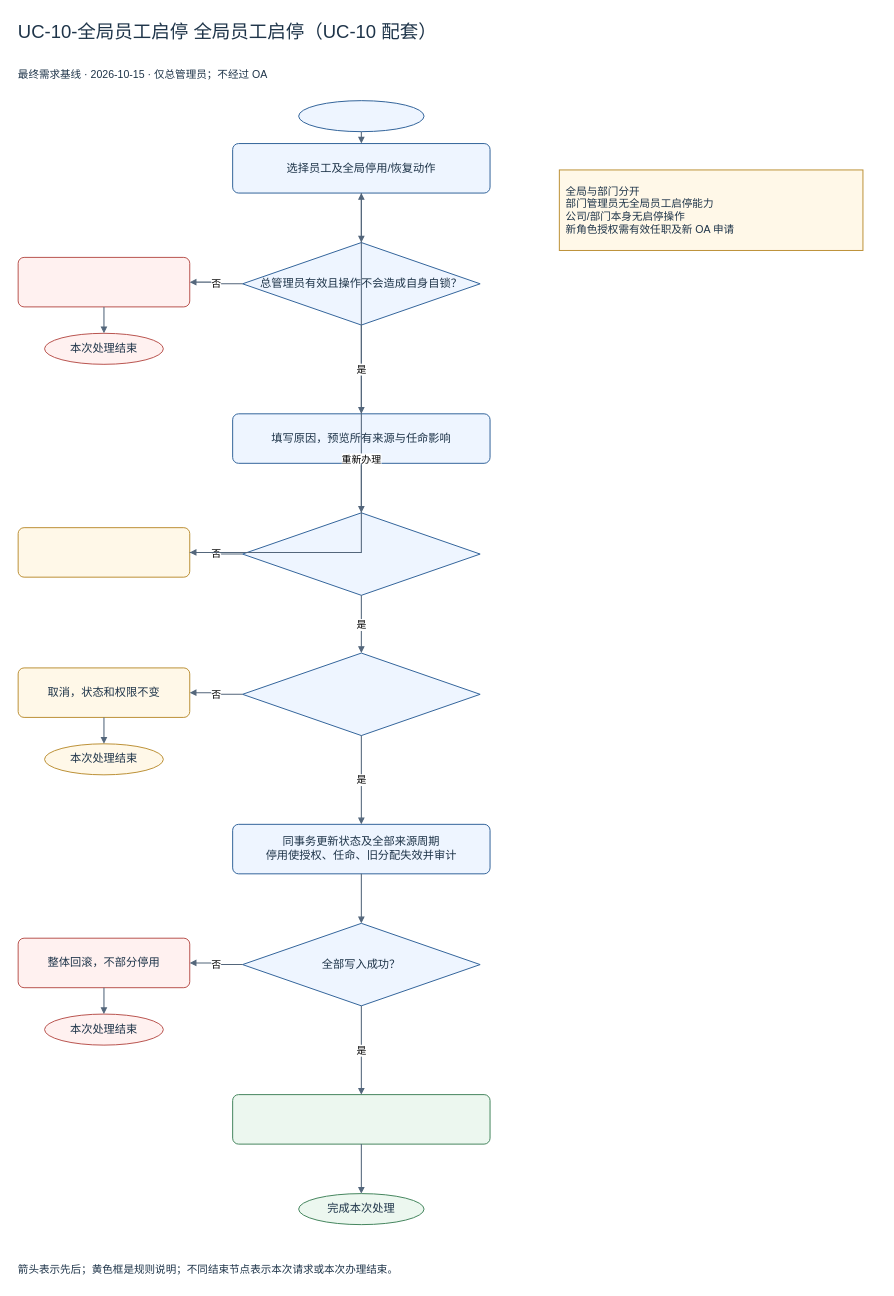
Some shapes in this 894 by 1296 pixel diagram are drawn without their labels. The box of each missing label's shape, as (x1, y1, x2, y2) in pixels:
停用后拒绝全部业务及后台访问 恢复仅恢复身份，旧授权和任命不复活: (232, 1094, 490, 1144)
员工及版本合法且已明确全局影响？: (242, 512, 480, 596)
开始: (298, 100, 424, 132)
拒绝或冲突，重新读取: (17, 527, 190, 577)
拒绝，部门管理员只能范围内离岗关权: (17, 257, 190, 307)
确认全局员工状态变更？: (242, 652, 480, 736)
